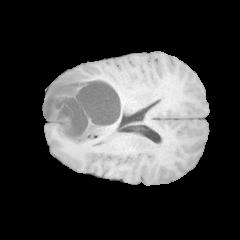glioma: (42, 72, 125, 142)
